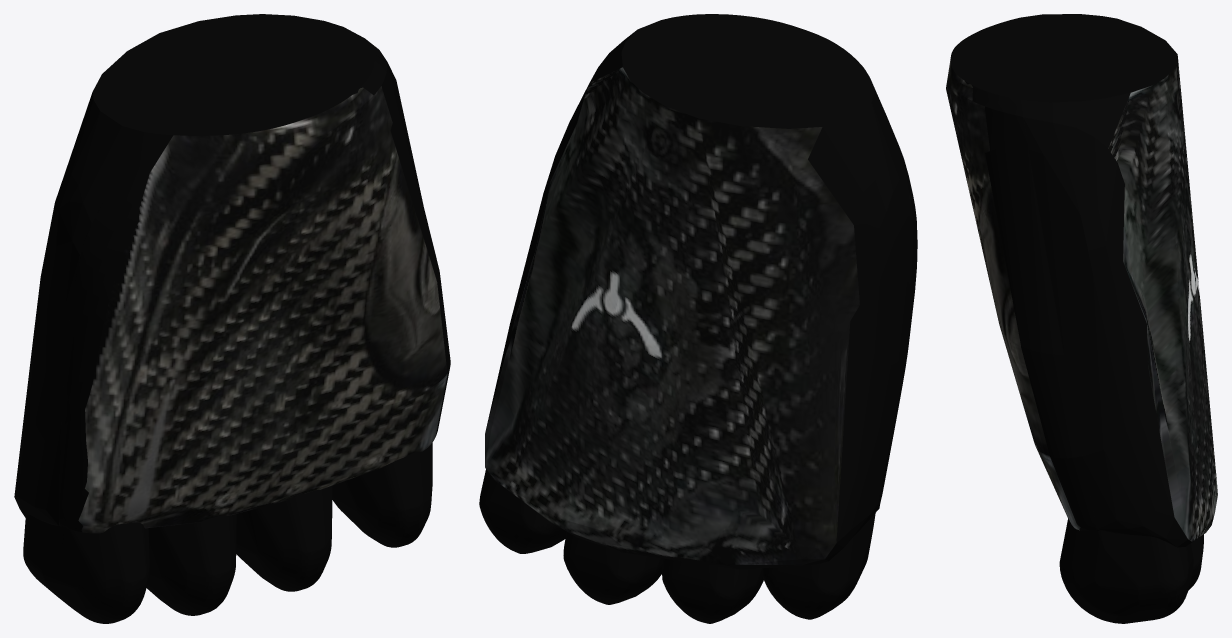
File: FB_palm_ref.obj
3 views of the same model, side by side, from view 1: azimuth 30°, elevation 25°; view 2: azimuth 150°, elevation 25°; view 3: azimuth 270°, elevation 25° (orthographic). The views are drawn at different scales.
Parts seen in each view (by area): view 1: FB_palm_ref; view 2: FB_palm_ref; view 3: FB_palm_ref.
Boxes of the visible parts, x1,y1,x2,y2 form: FB_palm_ref: (14,14,450,623); FB_palm_ref: (479,14,917,623); FB_palm_ref: (946,14,1217,623).
Bounding box in the file's own units: 0.0816 × 0.1106 × 0.053.
Materials: 1 (1 with a texture image).
